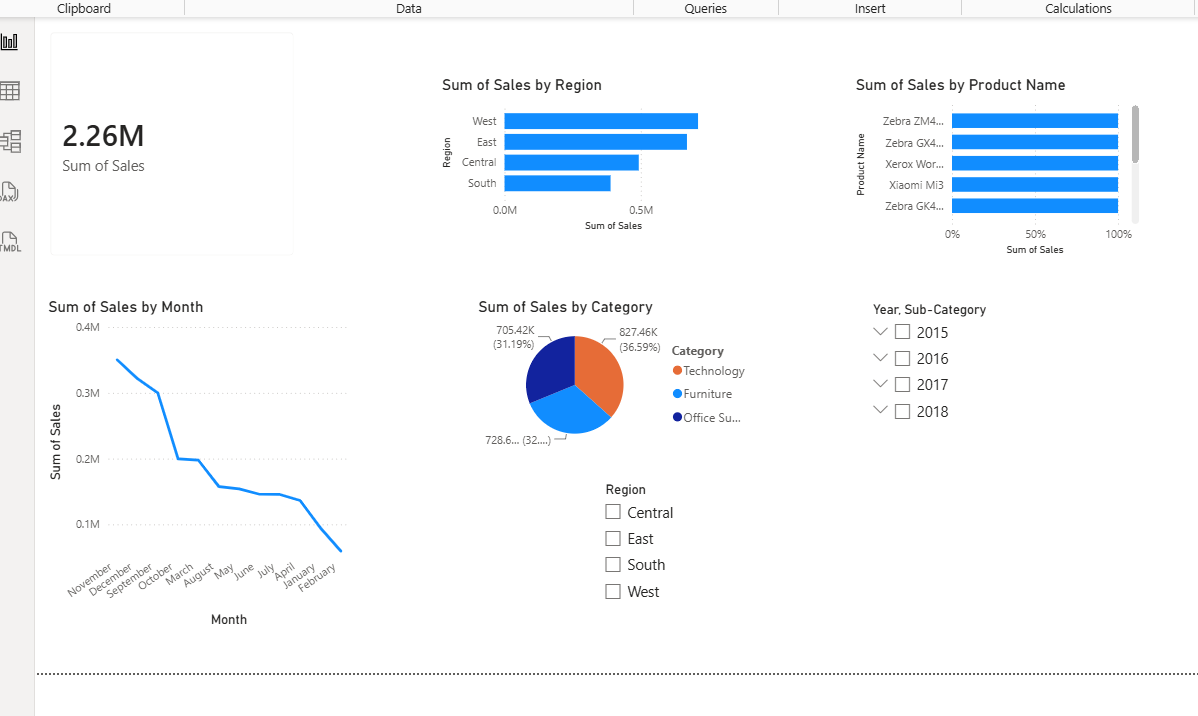

What the dashboard file says about the page in this screenshot:
{"tool":"powerbi","page":{"name":"Page 1","canvas":[1280,720],"ordinal":0},"visuals":[{"type":"cardVisual","fields":{"Data":["Sum(clean_sales_data.Sales)"]},"box":[0,0,301.9,279.9],"z":0},{"type":"lineChart","fields":{"Category":["clean_sales_data.Month"],"Y":["Sum(clean_sales_data.Sales)"]},"box":[9.6,307.4,340.3,367.8],"z":1000},{"type":"clusteredBarChart","fields":{"Category":["clean_sales_data.Region"],"Y":["Sum(clean_sales_data.Sales)"]},"box":[441.9,64.5,332.1,175.6],"z":2000},{"type":"pieChart","fields":{"Category":["clean_sales_data.Category"],"Y":["Sum(clean_sales_data.Sales)"]},"box":[481.6,307.4,314.2,174.3],"z":3000},{"type":"hundredPercentStackedBarChart","fields":{"Category":["clean_sales_data.Product Name"],"Y":["Sum(clean_sales_data.Sales)"]},"box":[896.1,64.5,321.1,201.7],"z":4000},{"type":"slicer","fields":{"Values":["clean_sales_data.Year","clean_sales_data.Sub-Category"]},"box":[907,307.4,310.1,183.9],"z":5000},{"type":"slicer","fields":{"Values":["clean_sales_data.Region"]},"box":[613.4,505,345.8,193.5],"z":5001}]}

Visuals, with their boxes on the page's 1280x720 design canvas (x1, y1, x2, y2). These are canvas units, not pixel positions in the 1198x716 screenshot, which may show the page scaled, cropped or inside an application window:
cardVisual - Sum(clean_sales_data.Sales): bbox=[0, 0, 302, 280]
lineChart - clean_sales_data.Month x Sum(clean_sales_data.Sales): bbox=[10, 307, 350, 675]
clusteredBarChart - clean_sales_data.Region x Sum(clean_sales_data.Sales): bbox=[442, 64, 774, 240]
pieChart - clean_sales_data.Category x Sum(clean_sales_data.Sales): bbox=[482, 307, 796, 482]
hundredPercentStackedBarChart - clean_sales_data.Product Name x Sum(clean_sales_data.Sales): bbox=[896, 64, 1217, 266]
slicer - clean_sales_data.Year x clean_sales_data.Sub-Category: bbox=[907, 307, 1217, 491]
slicer - clean_sales_data.Region: bbox=[613, 505, 959, 698]
